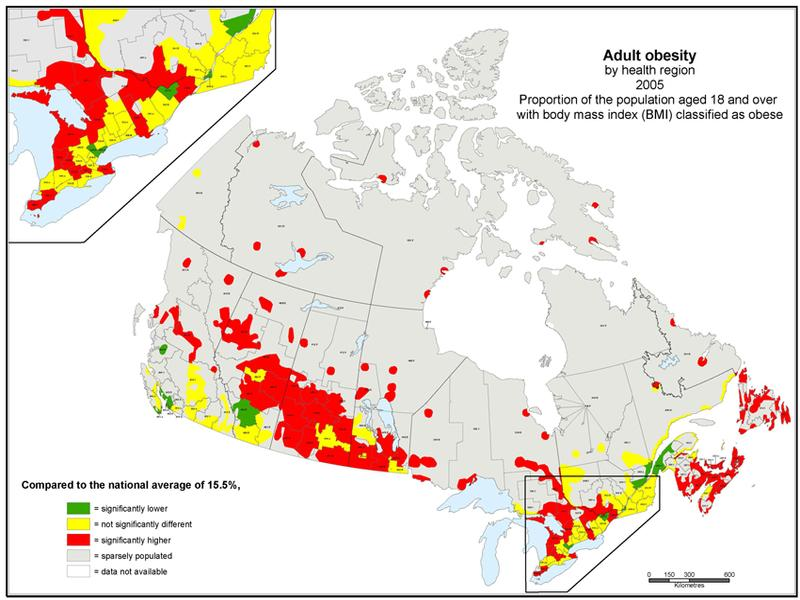legend: (18, 478, 241, 579)
